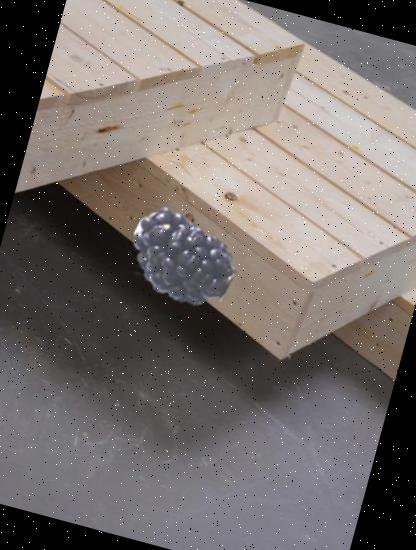Mulberry: (115, 192, 248, 326)
